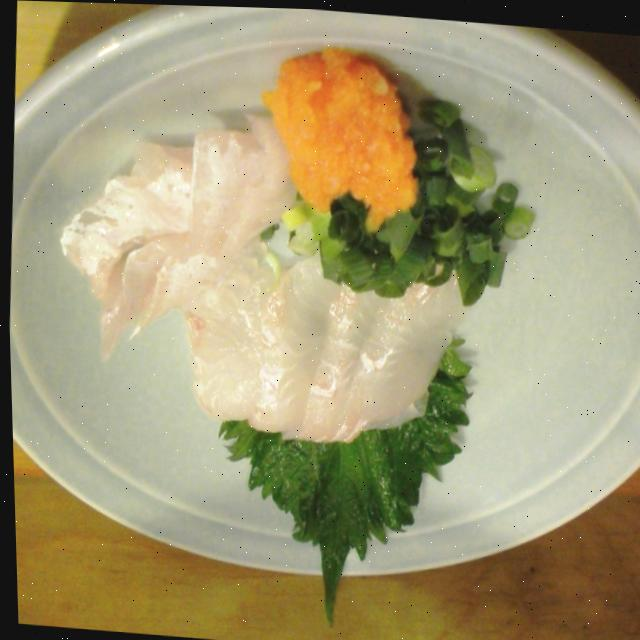刺身生食: (17, 2, 559, 553)
